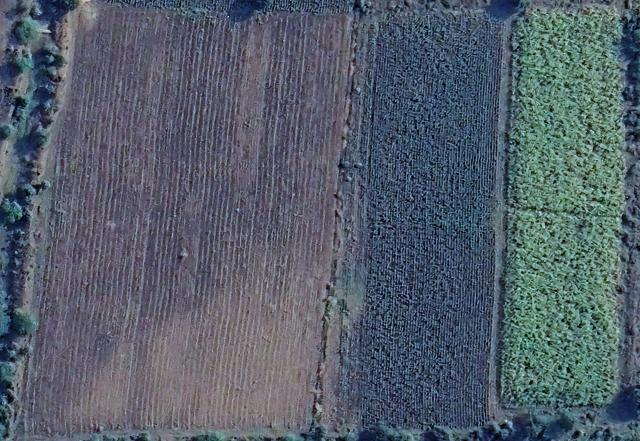Farms: (19, 4, 351, 437), (340, 8, 507, 431), (508, 9, 628, 221), (499, 211, 626, 411)
